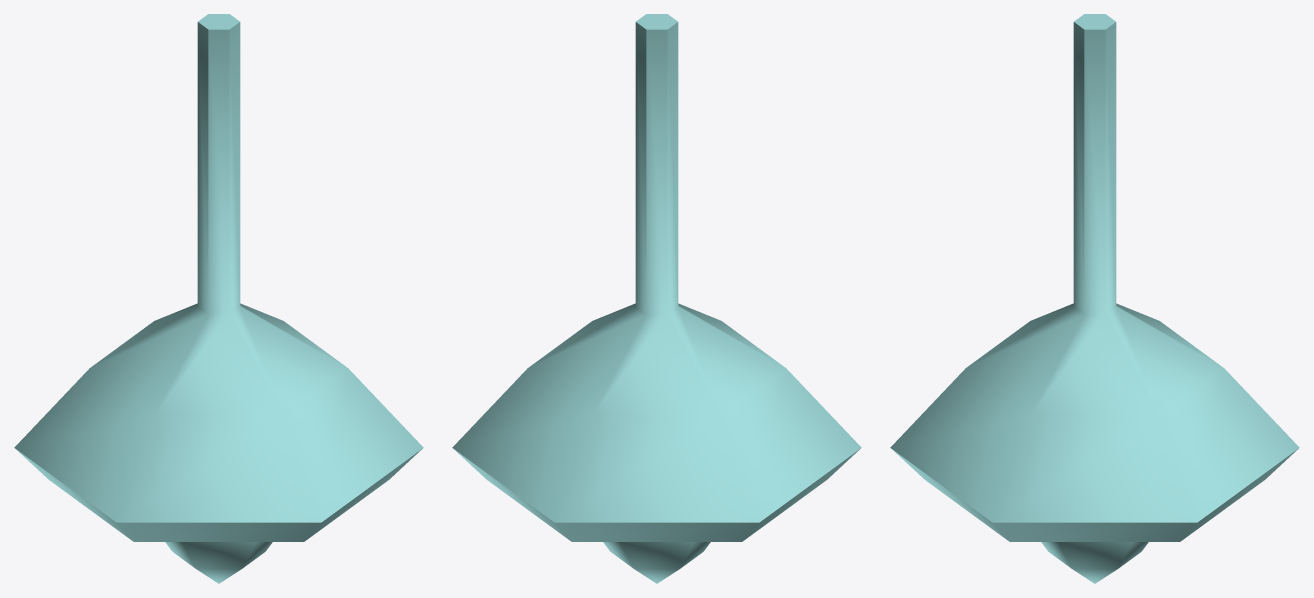
Rendered from env_Luminaria.fbx.
3 renders of one model, left to right at view 1: azimuth 30°, elevation 25°; view 2: azimuth 150°, elevation 25°; view 3: azimuth 270°, elevation 25°, orthographic.
Parts seen in each view (by area): view 1: env_Luminaria; view 2: env_Luminaria; view 3: env_Luminaria.
Boxes of the visible parts, x1=… form: env_Luminaria: x1=14, y1=14, x2=423, y2=583; env_Luminaria: x1=452, y1=14, x2=861, y2=583; env_Luminaria: x1=890, y1=14, x2=1299, y2=583.
Bounding box in the file's own units: 720 × 1259 × 831.
